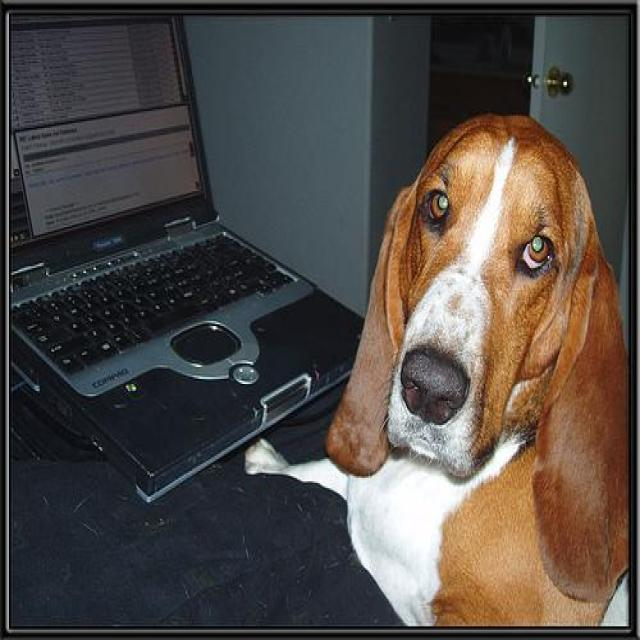basset: (244, 112, 634, 630)
